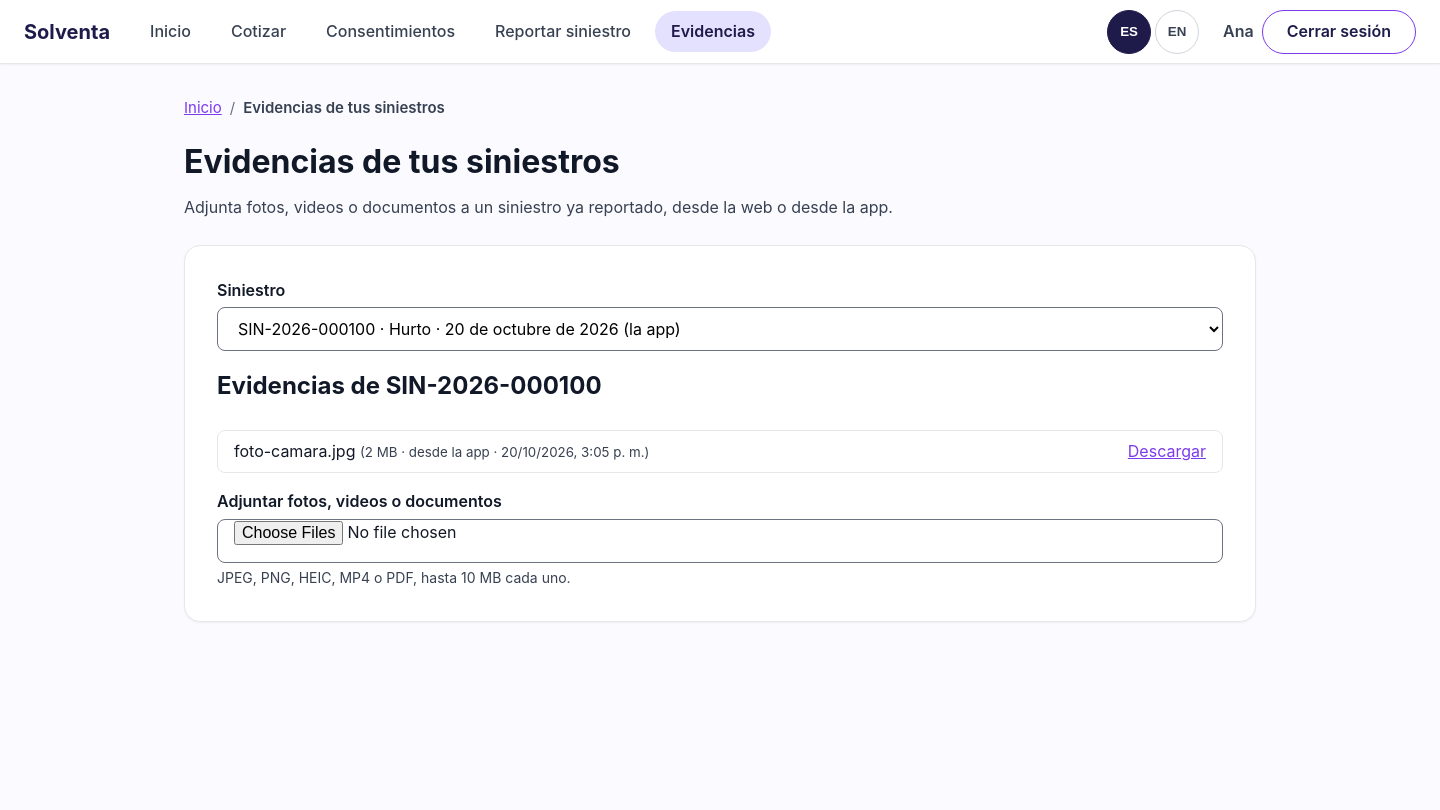
Test: Evidencias de un siniestro ya reportado (MOB-F05, criterio 5) › funciona en inglés
The width and height of the screenshot is (1440, 810).
Expected: the list named "Evidencias adjuntas" is shown, [217,430,1223,473]
Click the button "EN".
click(1177, 32)  # box [1155,10,1199,54]
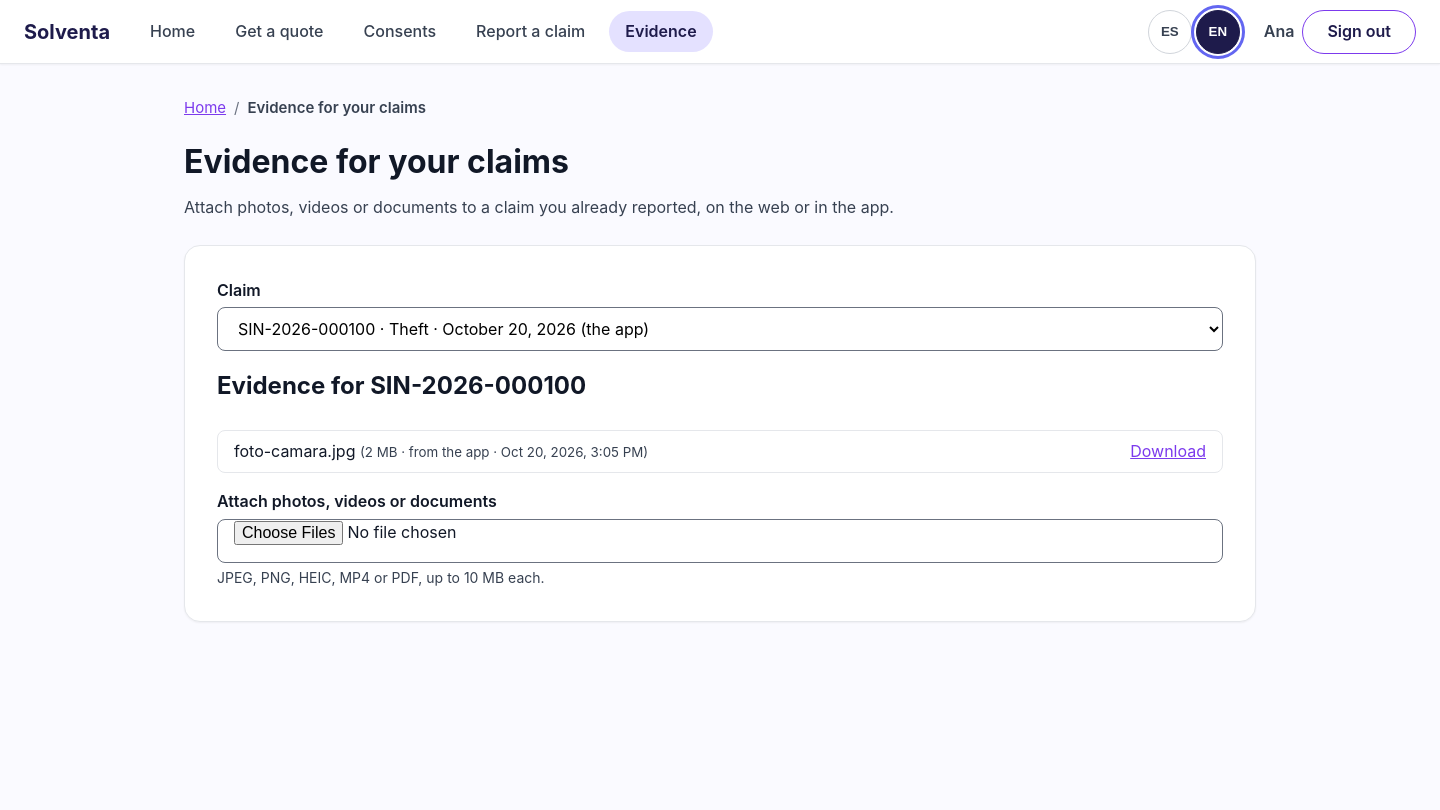
Result: the heading "Evidence for your claims" is shown at [184,142,569,181]
Result: the list named "Attached evidence" shows "from the app" at [360,444,648,460]
